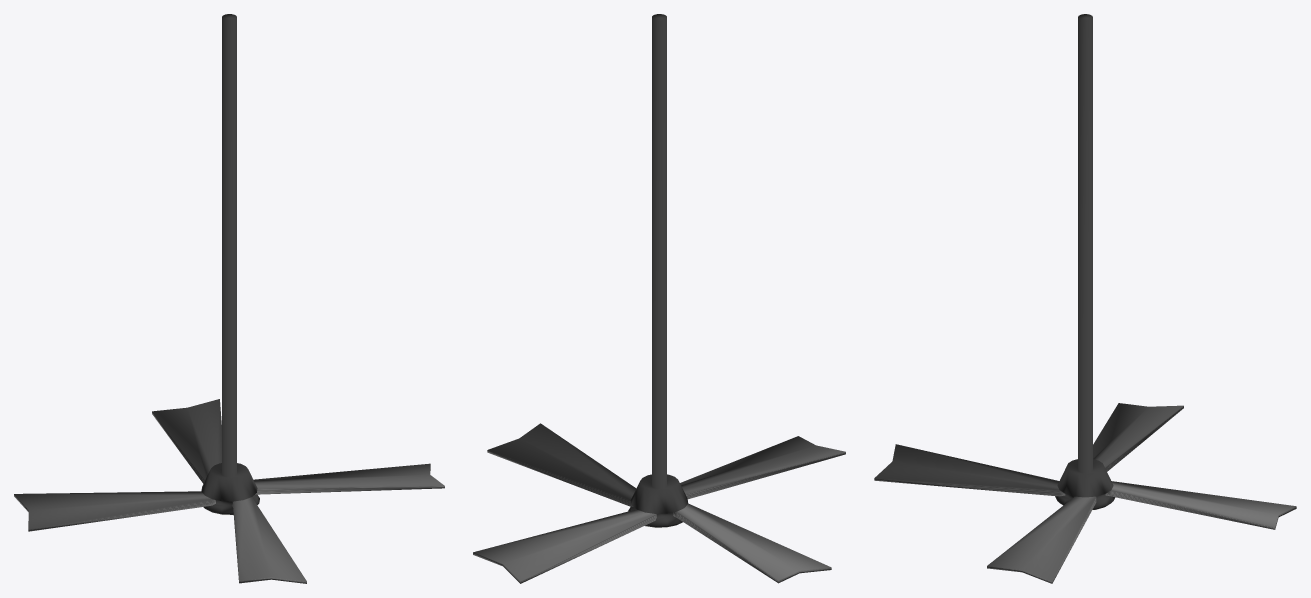
File: CeilingFan.glb
The picture shows the model from 3 angles, left to right: view 1: azimuth 30°, elevation 25°; view 2: azimuth 150°, elevation 25°; view 3: azimuth 270°, elevation 25°; orthographic projection. The views are drawn at different scales.
Visible parts, largest first — view 1: Fan; view 2: Fan; view 3: Fan.
Boxes of the visible parts, x1,y1,x2,y2 form: Fan: (14,14,444,583); Fan: (473,14,845,583); Fan: (874,14,1296,583).
Bounding box in the file's own units: 3.01 × 3.84 × 3.01.
3 materials, 1 textured.
